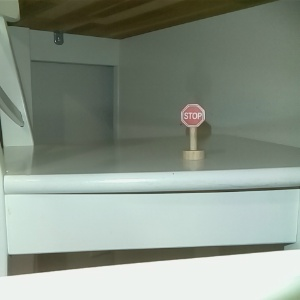stop sign: (179, 102, 207, 161)
